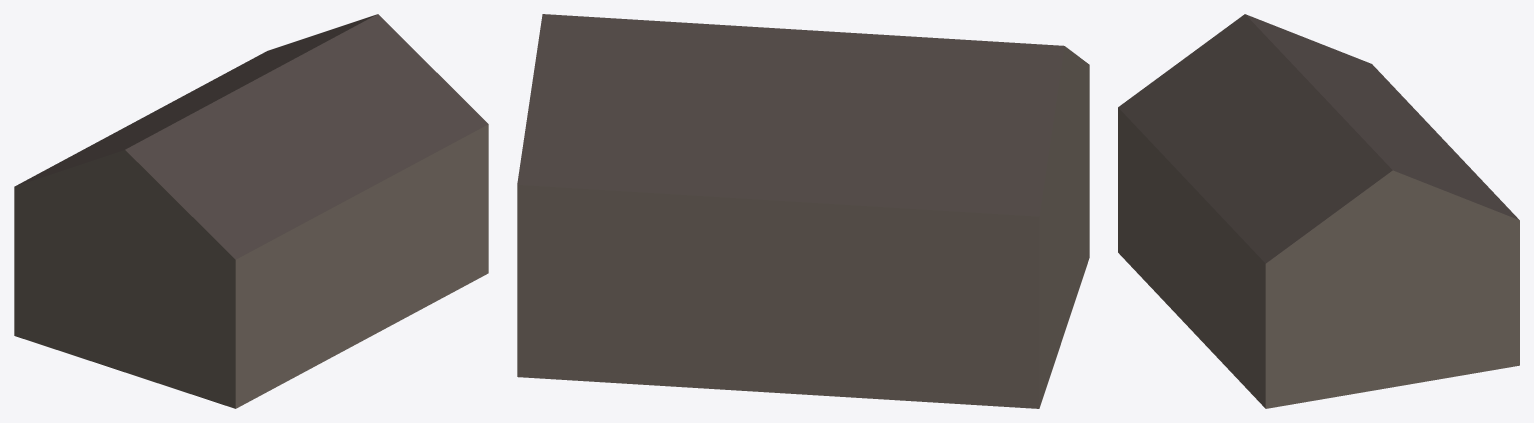
3 views of the same model, side by side, from view 1: azimuth 30°, elevation 25°; view 2: azimuth 150°, elevation 25°; view 3: azimuth 270°, elevation 25° (orthographic). The views are drawn at different scales.
Parts seen in each view (by area): view 1: HP-w369342470; view 2: HP-w369342470; view 3: HP-w369342470.
Part boxes in pixels (x1=…): HP-w369342470: x1=14, y1=14, x2=488, y2=408; HP-w369342470: x1=517, y1=14, x2=1089, y2=408; HP-w369342470: x1=1118, y1=14, x2=1519, y2=408.
Bounding box in the file's own units: 26.54 × 13.44 × 22.56.
